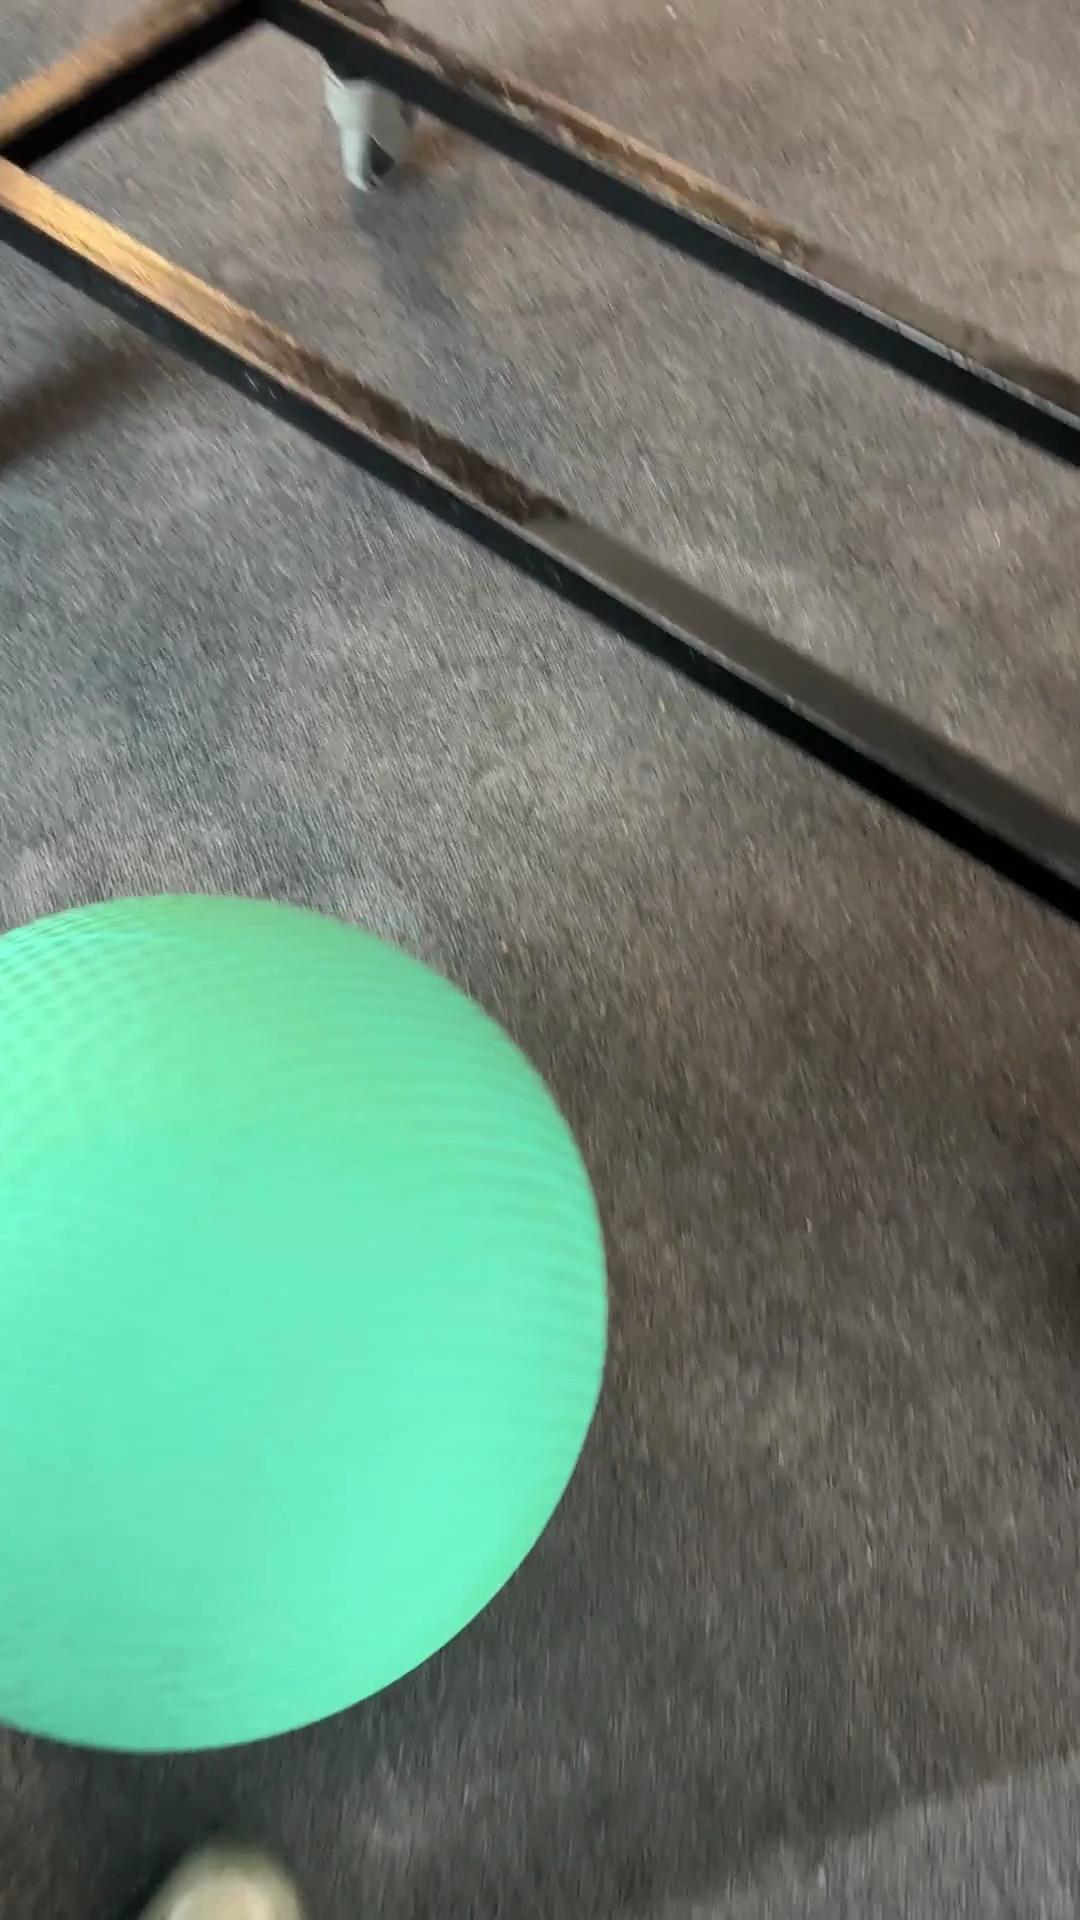ALGAE: (1, 889, 611, 1754)
